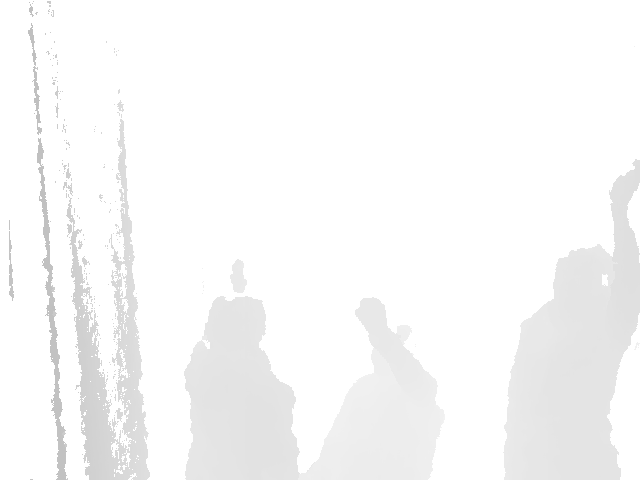hand: (354, 297, 387, 342), (608, 159, 640, 204), (228, 260, 248, 293)
head: (203, 294, 266, 349), (551, 249, 602, 311)
person: (500, 159, 640, 480), (182, 261, 301, 480), (302, 297, 438, 480)
